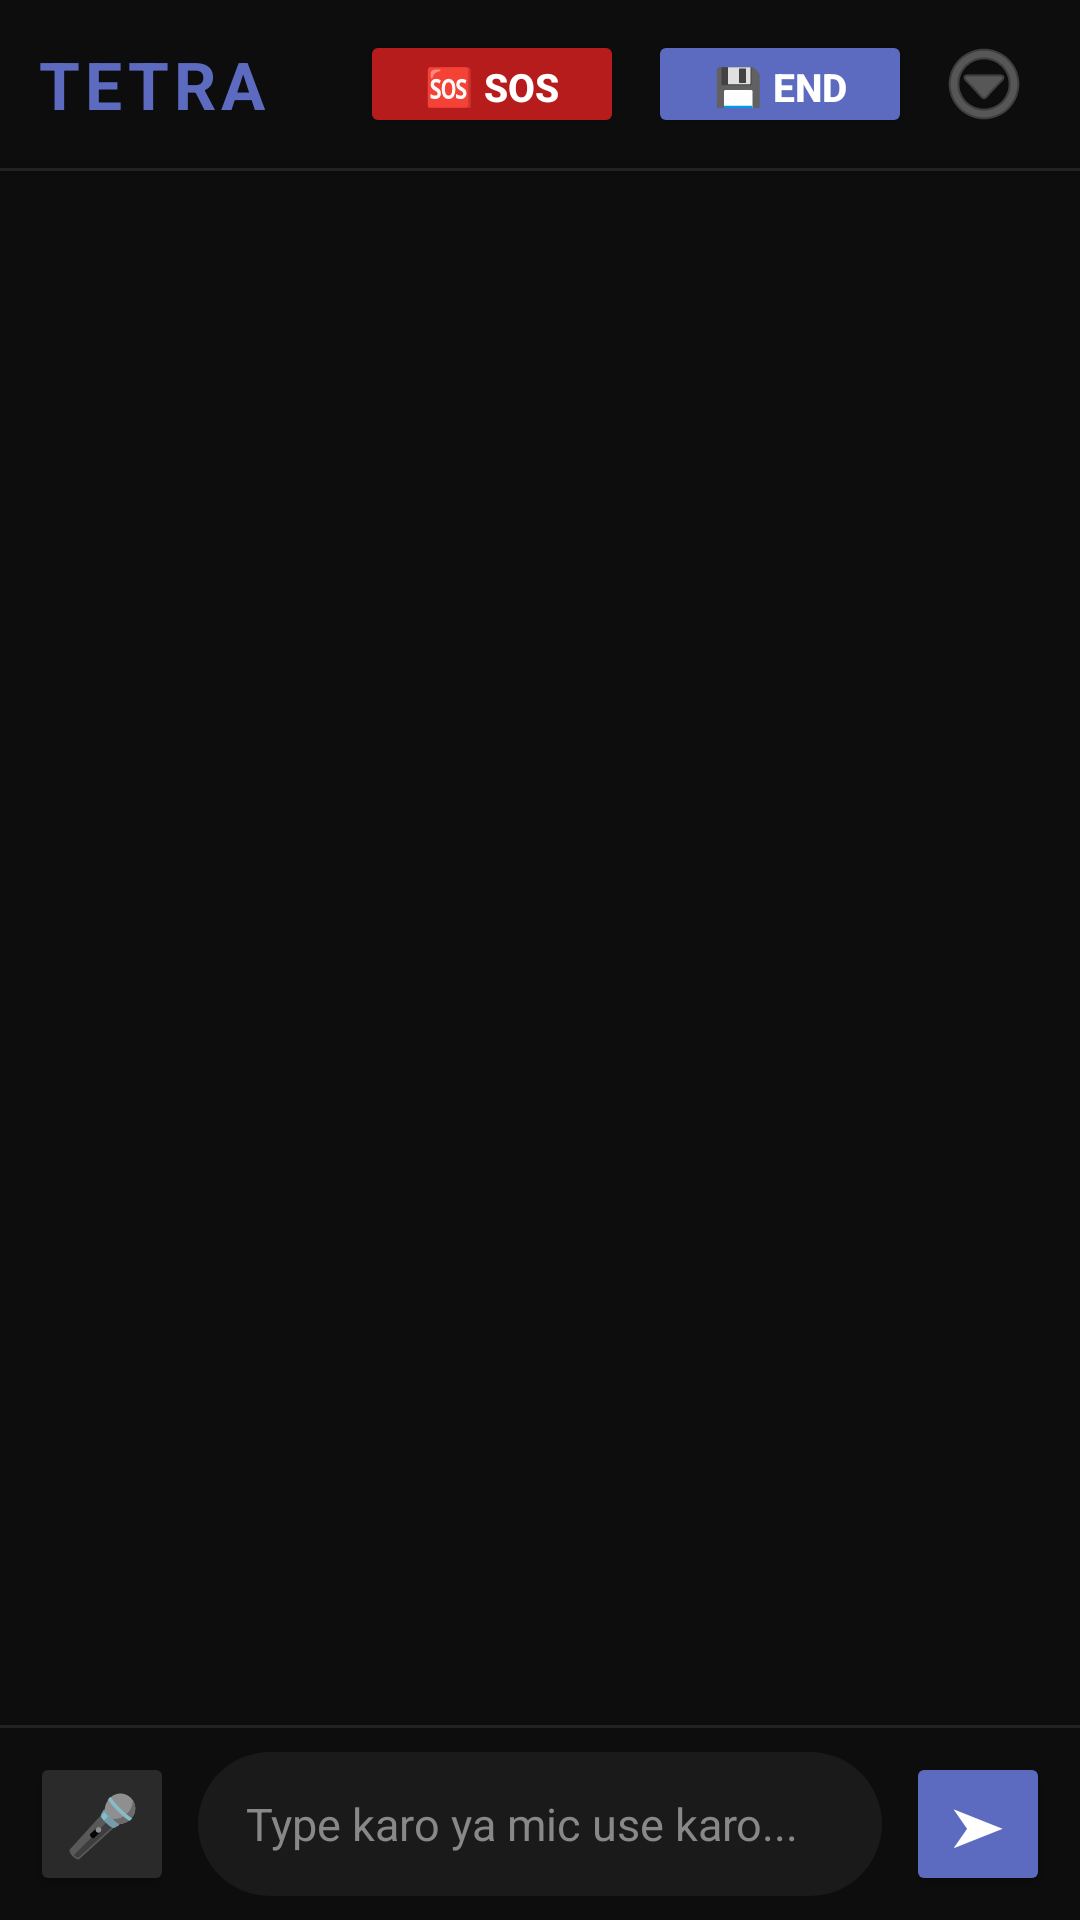

Named icons in this screenshot (1080 x 1920) and their bounding boxes, (x1, y1, x2, y2):
Menu: (949, 49, 1019, 119)
